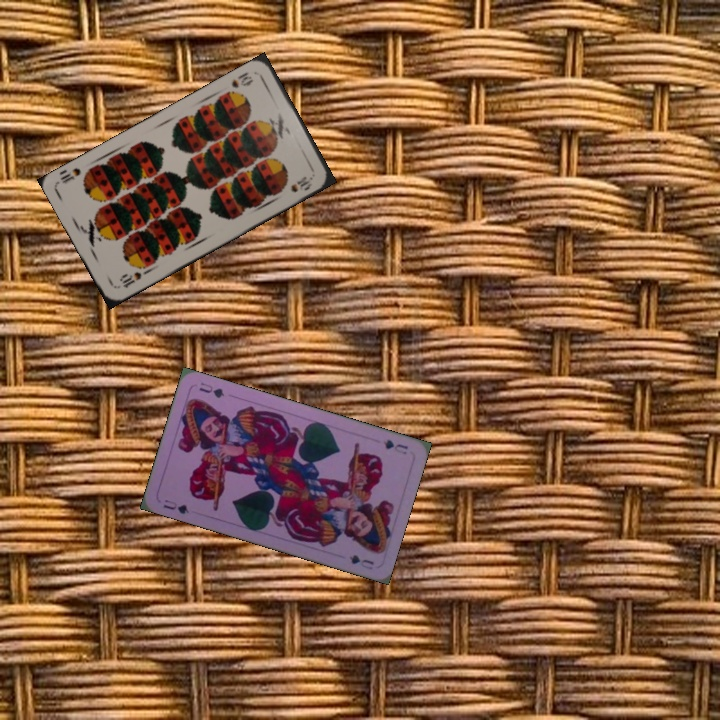GU: (159, 495, 192, 517), (379, 435, 410, 457)
S10: (227, 68, 256, 91), (116, 268, 144, 290)
